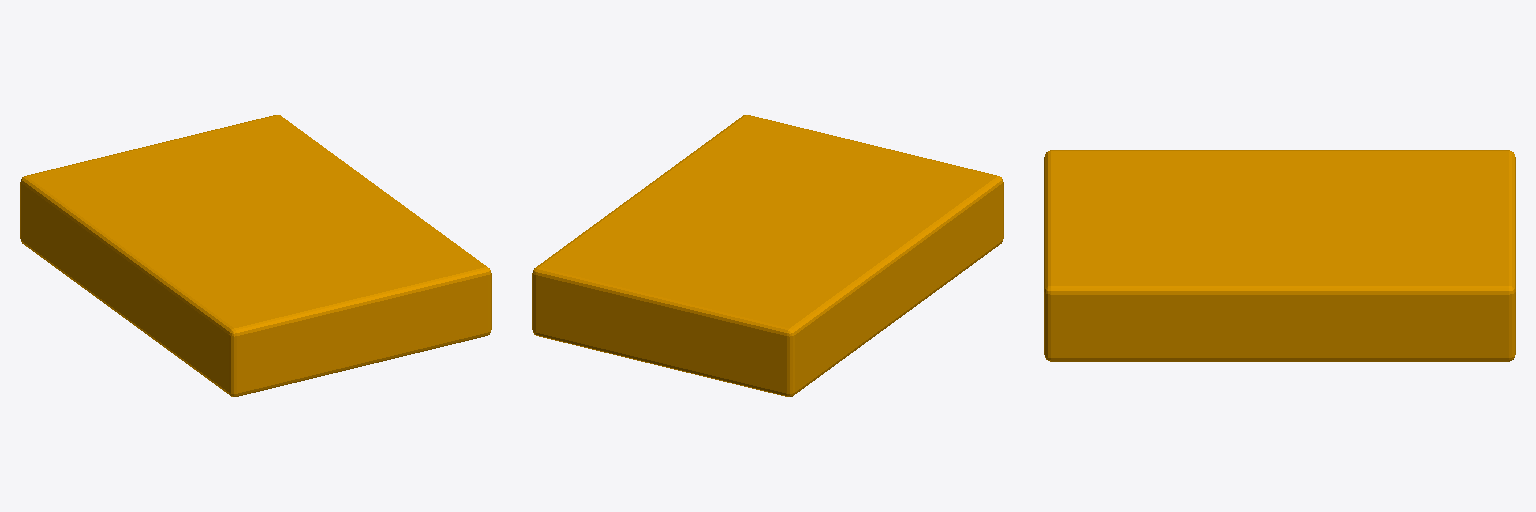
The robot description file, URDF, robot "plank_starting_point":
<?xml version="1.0" ?>
<robot name="plank_starting_point">
  <link name="base_link">
    <inertial>
      <origin xyz="0 0 0.0075" rpy="0 0 0"/>
      <mass value="0.03825"/>
      <inertia ixx="2.3746875e-05" ixy="0" ixz="0" iyy="1.21921875e-05" iyz="0" izz="3.45046875e-05"/>
    </inertial>
    <visual name="visual">
      <origin xyz="0 0 0" rpy="0 0 0"/>
      <geometry>
        <mesh filename="meshes/visual.obj" scale="1 1 1"/>
      </geometry>
    </visual>
    <collision name="plank">
      <origin xyz="0 0 0" rpy="0 0 0"/>
      <geometry>
        <mesh filename="meshes/collision/plank.obj" scale="1 1 1"/>
      </geometry>
    </collision>
  </link>
</robot>

--- What the picture shows (computed from the rendered views, not written in the file) ---
Views: 3 orthographic renders of the robot side by side, from view 1: azimuth 30°, elevation 25°; view 2: azimuth 150°, elevation 25°; view 3: azimuth 270°, elevation 25°.
Model plank_starting_point with 1 links and 0 joints (none), rooted at base_link, posed every joint at zero.
Links seen in each view (by area): view 1: base_link; view 2: base_link; view 3: base_link.
Boxes of the visible links, left/top/right/bottom form: base_link: left=20, top=115, right=491, bottom=396; base_link: left=532, top=115, right=1003, bottom=396; base_link: left=1044, top=150, right=1515, bottom=361.
Size in the robot's own frame: 0.06 by 0.085 by 0.015 metres.
Meshes: 1 distinct files referenced, 1 mesh visuals loaded (1 OBJ).
